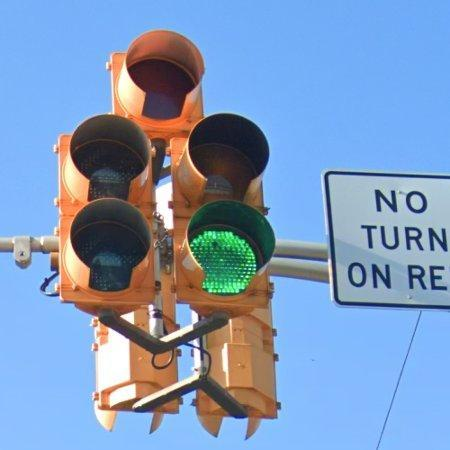traffic lights: (50, 114, 161, 309), (175, 114, 275, 307), (104, 28, 206, 138)
